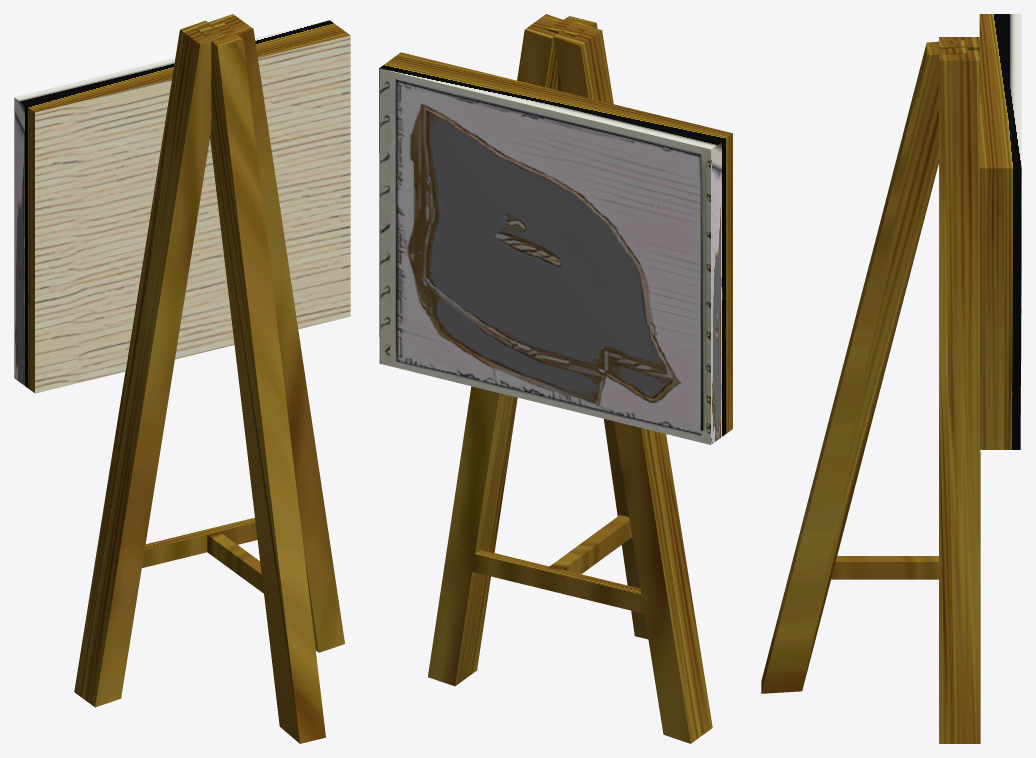
Rendered from Paint.glb.
3 renders of one model, left to right at view 1: azimuth 30°, elevation 25°; view 2: azimuth 150°, elevation 25°; view 3: azimuth 270°, elevation 25°, orthographic. The views are drawn at different scales.
Visible parts, largest first — view 1: Paint; view 2: Paint; view 3: Paint.
Part boxes in pixels (<box>): Paint: <box>14,14,350,743</box>; Paint: <box>379,14,732,743</box>; Paint: <box>761,14,1021,743</box>.
Size of the model in its own units: 34.01 by 65.89 by 24.24.
1 material, 1 textured.
